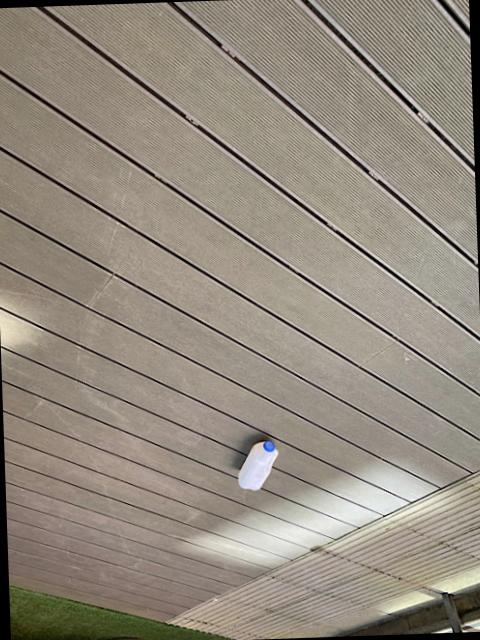plastic: (240, 443, 279, 491)
